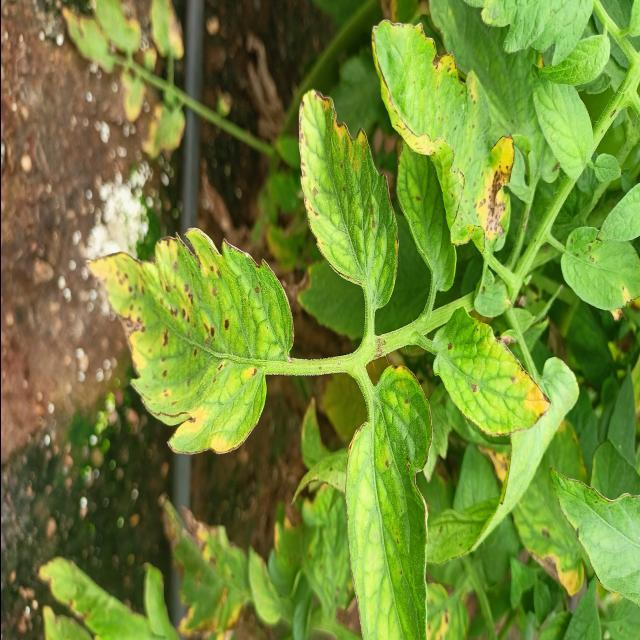Tomato mosaic virus leaf: (140, 224, 294, 462), (369, 10, 515, 254), (426, 298, 548, 442), (558, 214, 640, 314)
